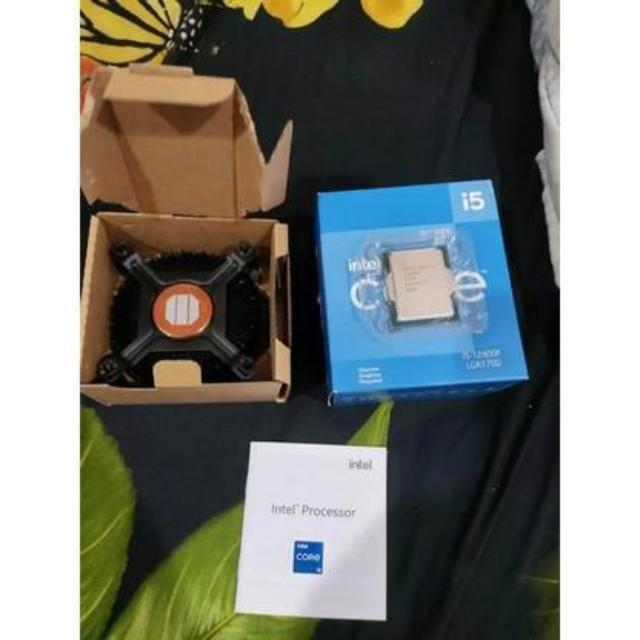CPU: (384, 242, 462, 333)
